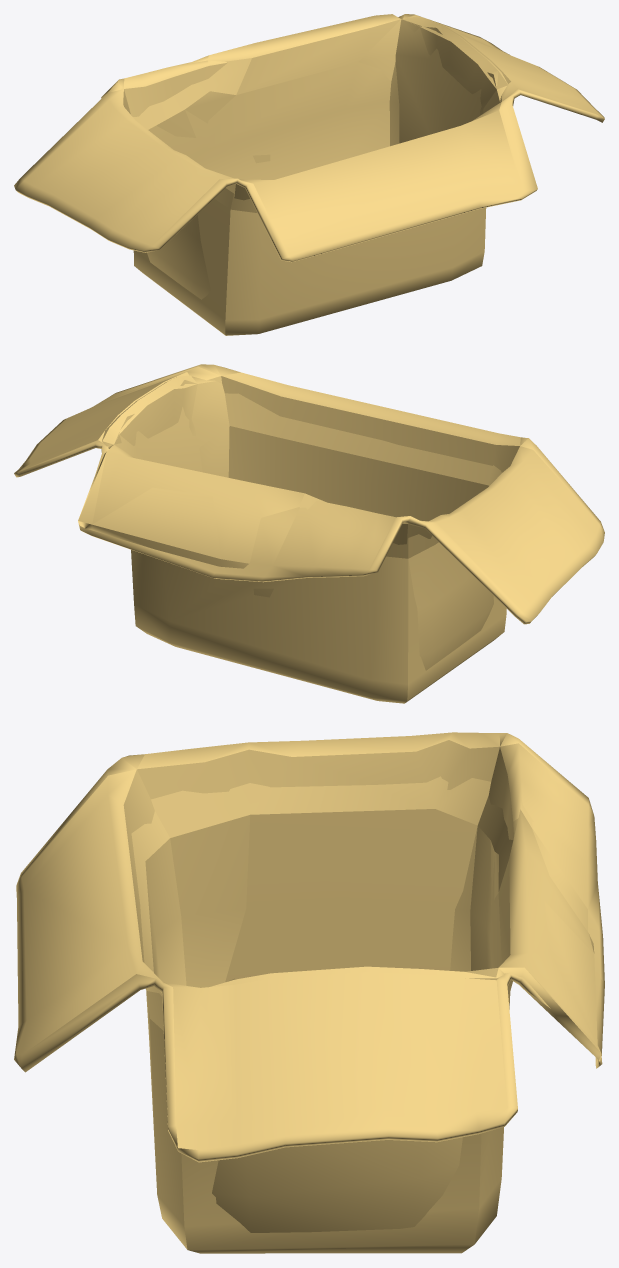
The model's file is Props_Box_Used_02.fbx.
The picture shows the model from 3 angles, top to bottom: view 1: azimuth 30°, elevation 25°; view 2: azimuth 150°, elevation 25°; view 3: azimuth 270°, elevation 25°; orthographic projection. The views are drawn at different scales.
Parts seen in each view (by area): view 1: Props_Box_Used_02; view 2: Props_Box_Used_02; view 3: Props_Box_Used_02.
Boxes of the visible parts, box(x1,y1,x2,y2) form: Props_Box_Used_02: box(14, 14, 604, 335); Props_Box_Used_02: box(14, 364, 604, 703); Props_Box_Used_02: box(14, 732, 604, 1253).
Bounding box in the file's own units: 128 × 47.34 × 78.1.
